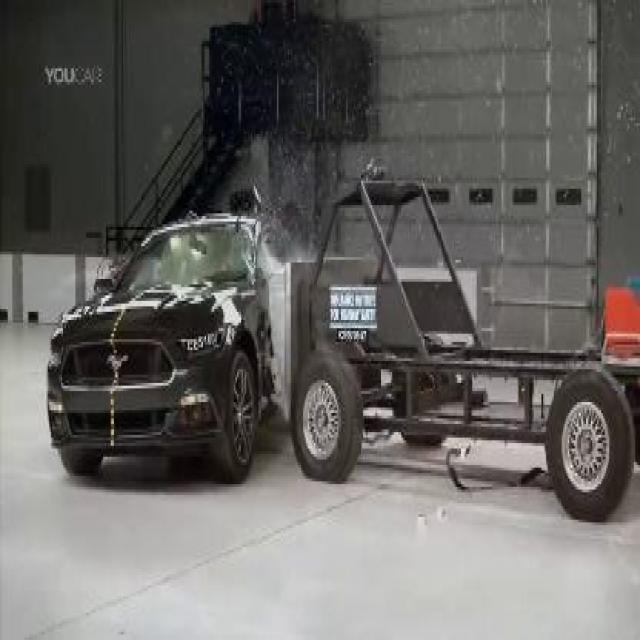accident: (45, 145, 468, 525)
